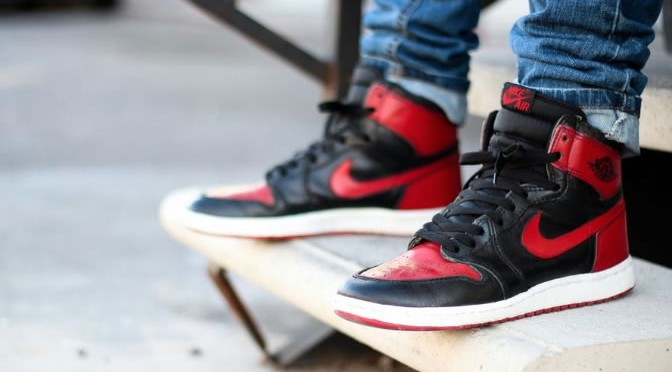Air Jordan 1 Bred: (328, 76, 648, 335), (172, 59, 469, 255)
